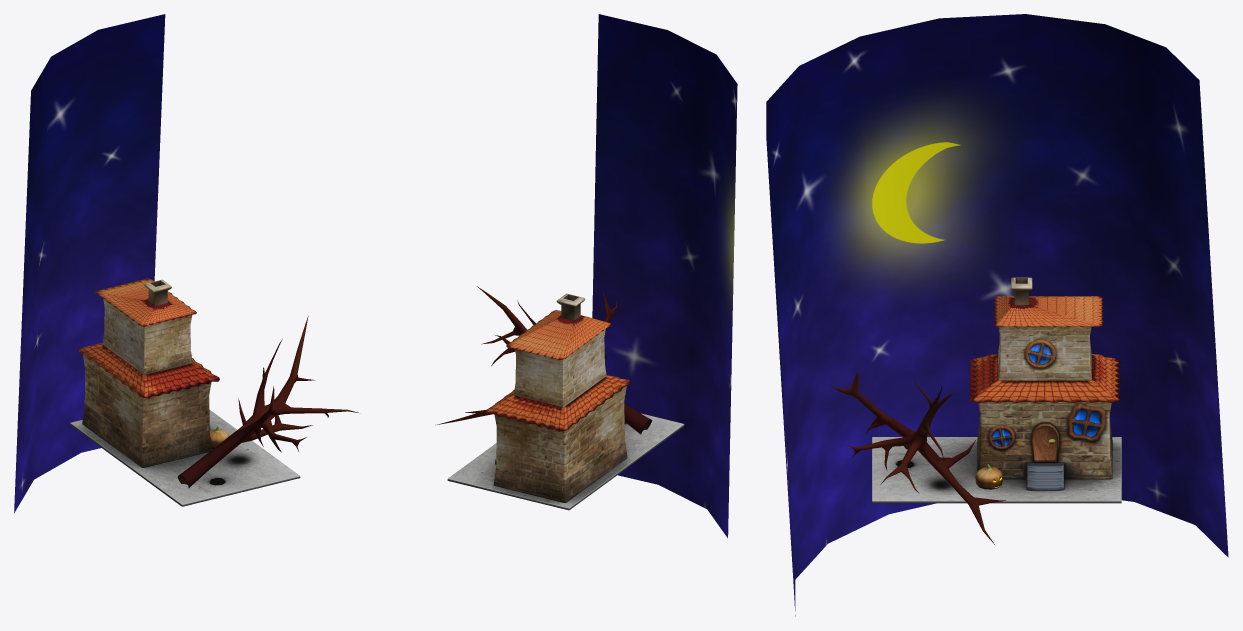
Rendered from brujas.obj.
The picture shows the model from 3 angles, left to right: view 1: azimuth 30°, elevation 25°; view 2: azimuth 150°, elevation 25°; view 3: azimuth 270°, elevation 25°; orthographic projection. The views are drawn at different scales.
Parts seen in each view (by area): view 1: Cylinder, Cube.010, Cube.011, Cube.008, Cube.013, Cube.012, Cube.002, Cube.009; view 2: Cylinder, Cube.010, Cube.008, Cube.011, Cube.012, Cube.002, Cube.013, Cube.009; view 3: Cylinder, Cube.011, Cube.010, Cube.012, Cube.008, Cube.013, Cube.002, Cube.001, Cube.006, Cube.007, Cube.003.
Part boxes in pixels (x1,y1,x2,y2): Cylinder: (14, 14, 165, 513); Cube.010: (82, 352, 212, 467); Cube.011: (70, 410, 300, 506); Cube.008: (102, 299, 192, 374); Cube.013: (177, 316, 358, 488); Cube.012: (78, 343, 219, 398); Cube.002: (95, 278, 196, 326); Cube.009: (144, 279, 171, 305); Cylinder: (592, 14, 737, 537); Cube.010: (493, 382, 627, 502); Cube.008: (514, 328, 606, 407); Cube.011: (447, 413, 684, 510); Cube.012: (486, 374, 630, 431); Cube.002: (506, 310, 611, 359); Cube.013: (435, 286, 652, 434); Cube.009: (556, 293, 585, 320); Cylinder: (766, 14, 1228, 616); Cube.011: (872, 437, 1121, 503); Cube.010: (977, 401, 1112, 479); Cube.012: (969, 354, 1120, 402); Cube.008: (998, 326, 1091, 380); Cube.013: (831, 369, 1005, 544); Cube.002: (994, 296, 1103, 326); Cube.001: (1067, 403, 1105, 441); Cube.006: (1027, 462, 1063, 490); Cube.007: (1031, 423, 1059, 462); Cube.003: (1024, 339, 1055, 368).
Bounding box in the file's own units: 22.88 × 37.52 × 31.32.
2 materials, 2 textured.
